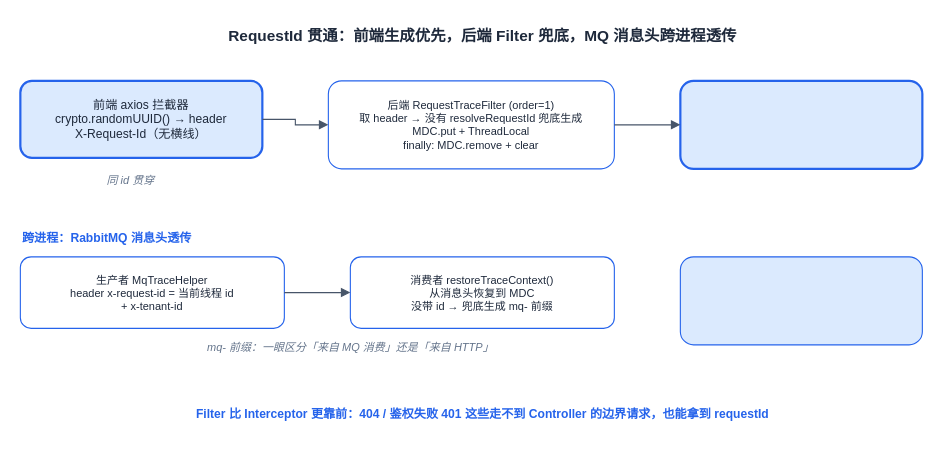
This 942x457 diagram has some shape labels left out. Here are the shapes that lost their labels. From the top down, the box of each, then its label:
(679, 79, 923, 169): Controller / Service RequestTraceContext.getRequestId() 日志自动带 requestId
(679, 256, 922, 345): 异步线程池 MdcTaskDecorator 传播 requestId + tenantId 备份→执行→恢复（防嵌套串号）
